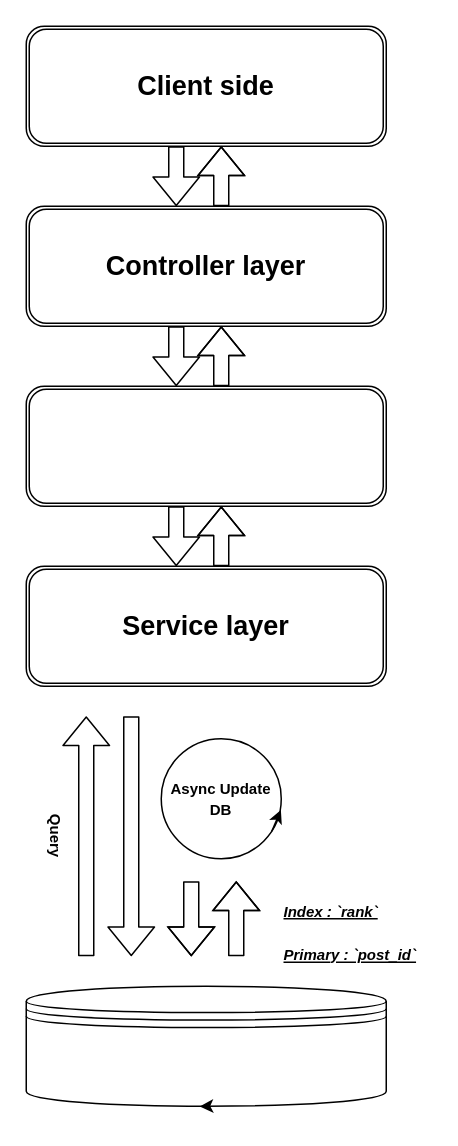
This 458x1146 diagram has some shape labels left out. Here are the shapes that lost their labels. From the top down, the centre of each, then its label:
At point (205, 445): "DTO Mapper".
At point (205, 1045): "MySQL Data Base".
